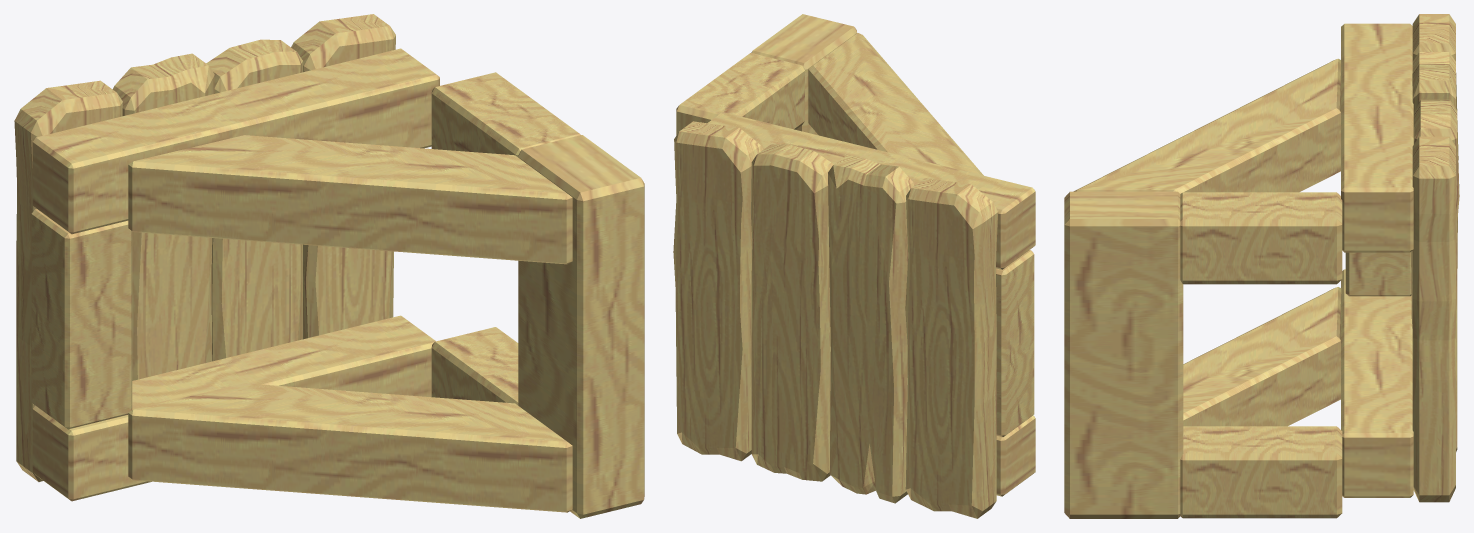
Rendered from BridgeEdge.FBX.
The picture shows the model from 3 angles, left to right: view 1: azimuth 30°, elevation 25°; view 2: azimuth 150°, elevation 25°; view 3: azimuth 270°, elevation 25°; orthographic projection. The views are drawn at different scales.
Parts seen in each view (by area): view 1: pasted__polySurface2515__pasted__Wood_00; view 2: pasted__polySurface2515__pasted__Wood_00; view 3: pasted__polySurface2515__pasted__Wood_00.
Part boxes in pixels (<box>): pasted__polySurface2515__pasted__Wood_00: <box>14,14,644,518</box>; pasted__polySurface2515__pasted__Wood_00: <box>673,14,1035,518</box>; pasted__polySurface2515__pasted__Wood_00: <box>1064,14,1459,518</box>.
Bounding box in the file's own units: 475 × 405 × 413.
